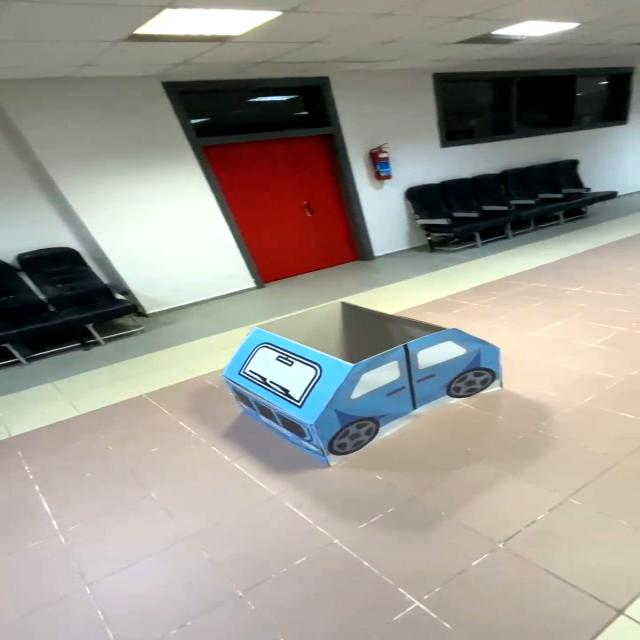blue_car: (197, 287, 538, 479)
